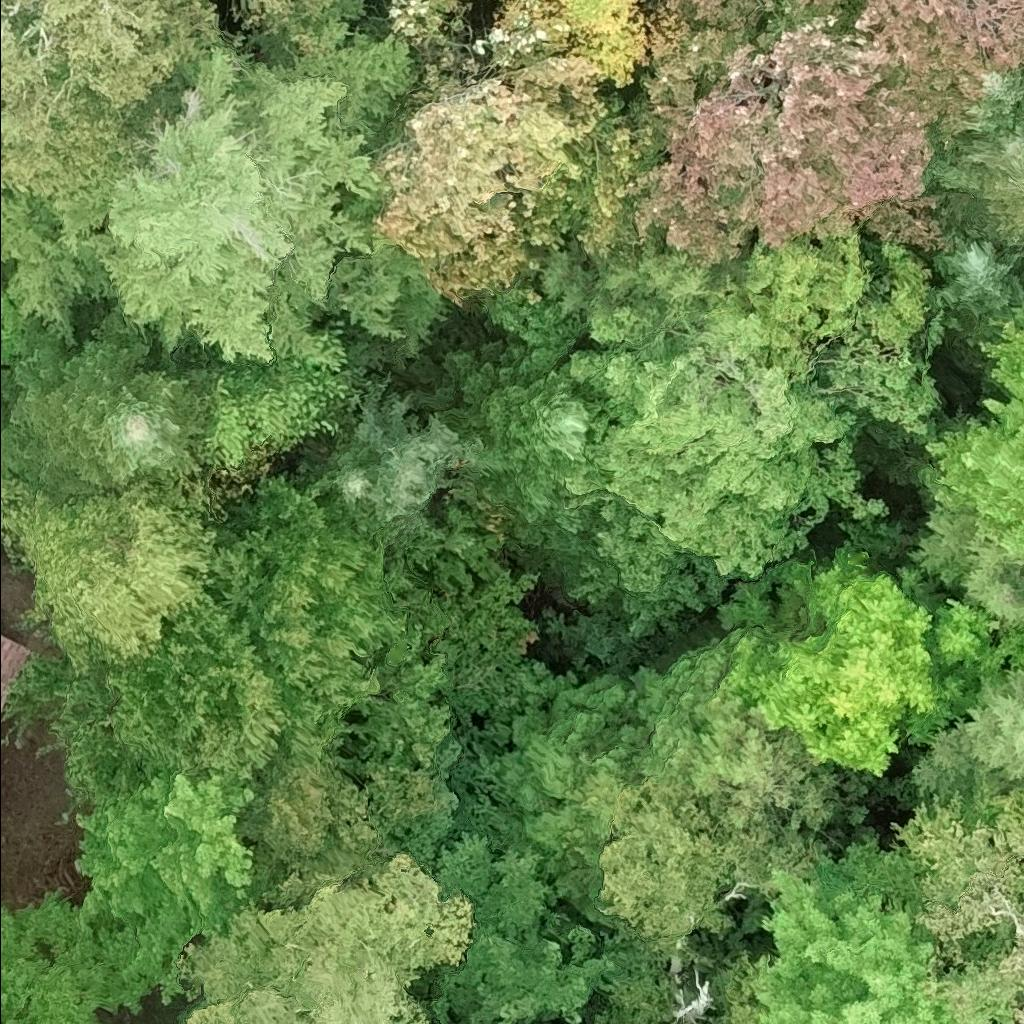crown: (0, 0, 449, 371), (622, 0, 957, 268), (560, 310, 891, 579), (369, 0, 652, 311), (0, 593, 294, 810), (206, 476, 410, 765), (716, 545, 941, 781), (176, 850, 479, 1023), (70, 766, 266, 1006), (0, 0, 229, 195), (0, 309, 212, 506), (719, 855, 964, 1023), (18, 479, 218, 670), (237, 741, 462, 908), (425, 335, 600, 529), (685, 706, 866, 887), (796, 0, 1023, 131), (597, 767, 757, 942), (891, 783, 1023, 995), (919, 304, 1023, 547), (0, 888, 142, 1023), (591, 232, 744, 350), (201, 355, 355, 470), (911, 663, 1023, 799), (926, 117, 1023, 249), (916, 497, 1023, 613), (927, 227, 1023, 336), (292, 431, 380, 528), (554, 0, 645, 84), (226, 0, 338, 49), (384, 0, 471, 57), (959, 67, 1023, 137), (665, 0, 776, 39), (0, 474, 31, 562), (997, 639, 1023, 669)
